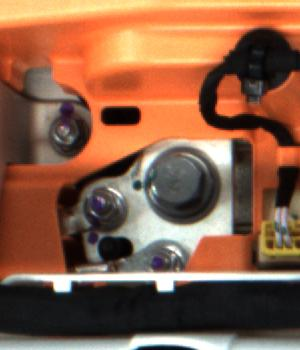nut_b: (143, 143, 228, 232)
screw_s: (53, 113, 97, 157), (86, 193, 130, 226), (146, 243, 177, 278)
